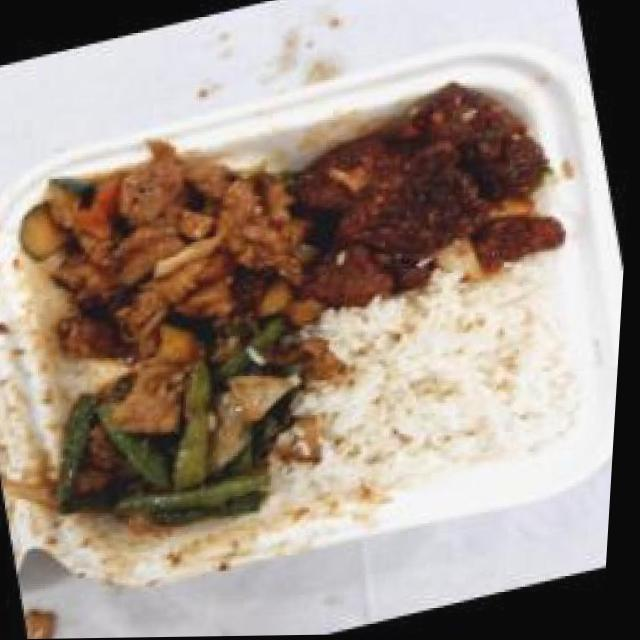Beijing Beef: (283, 68, 580, 315)
Kung Pao Chicken: (0, 116, 339, 395)
String Bean Chicken Breast: (49, 321, 340, 552)
White Steamed Rice: (291, 263, 600, 514)
